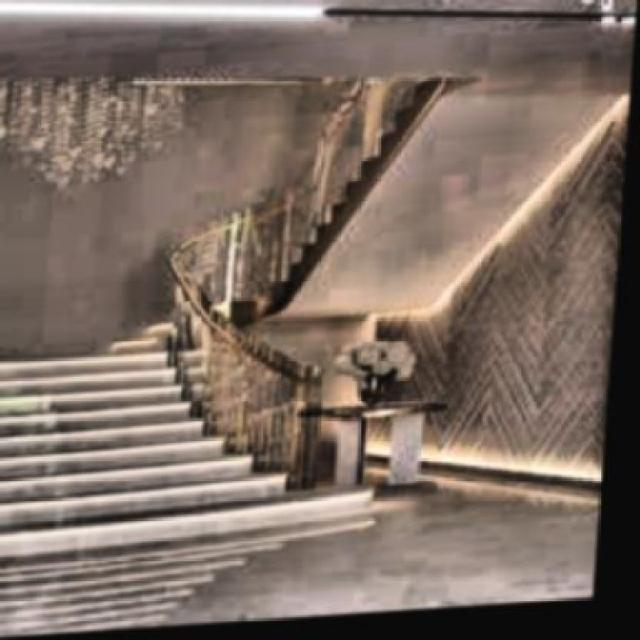stair: (0, 337, 397, 571)
